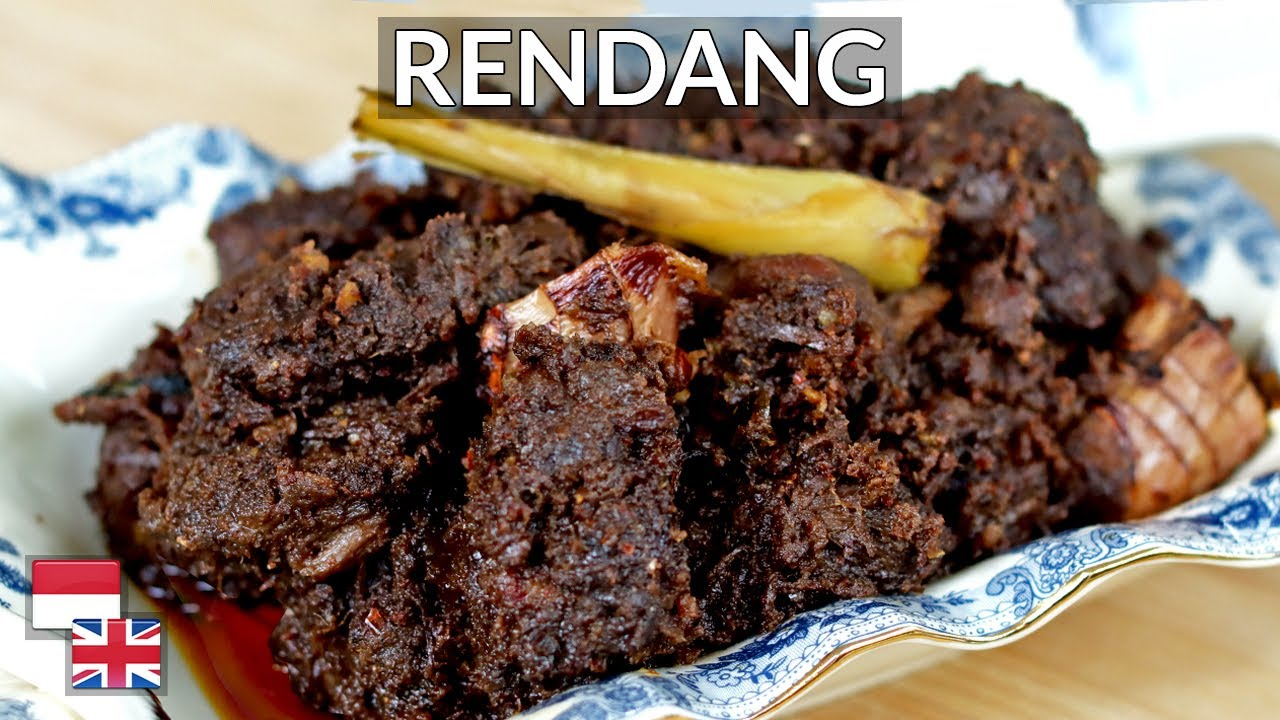rendang: (46, 117, 1236, 670)
